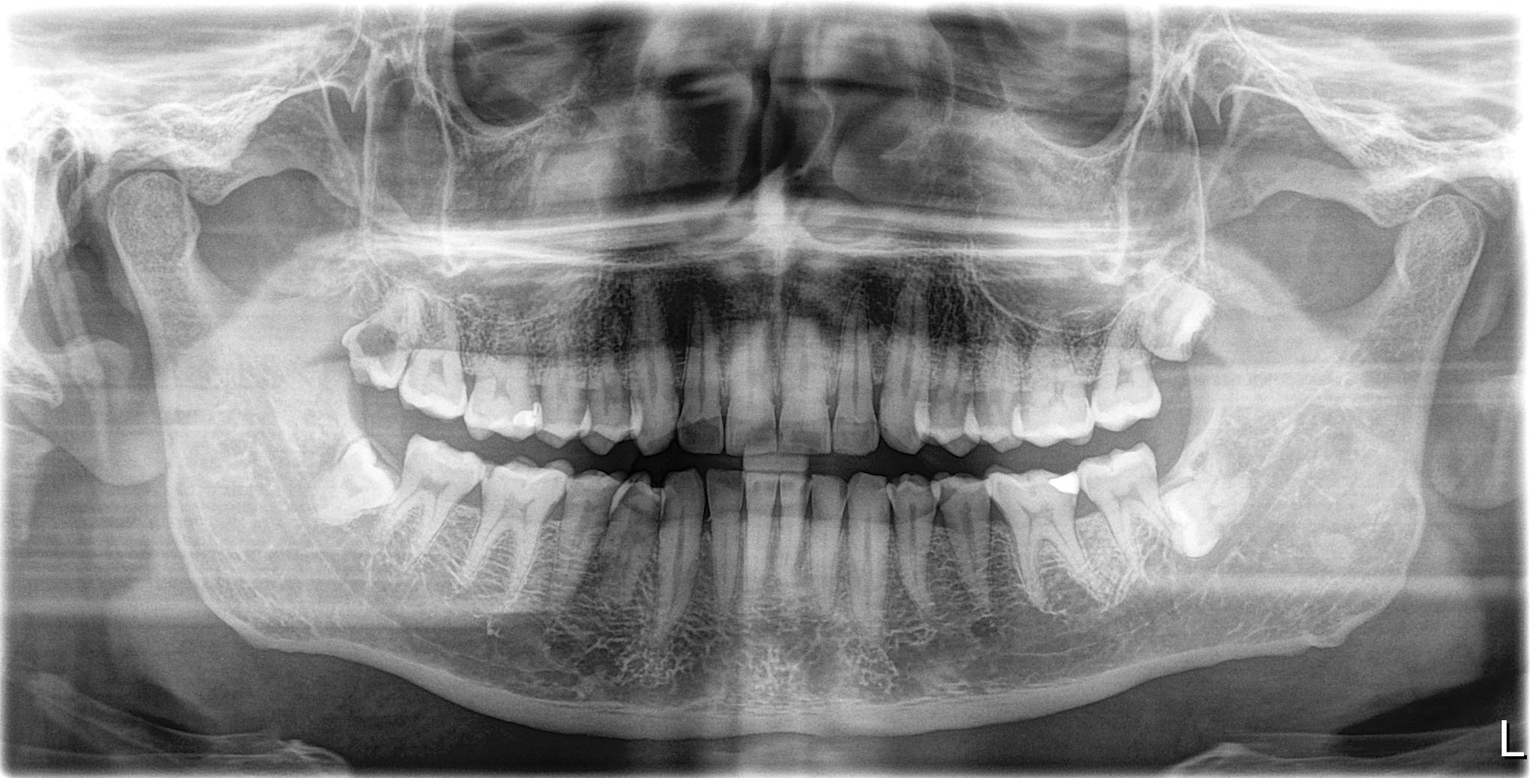Dental Caries: (347, 321, 409, 363)
Impacted Third Molar: (1157, 461, 1270, 558), (1129, 268, 1217, 370), (300, 452, 386, 541)
